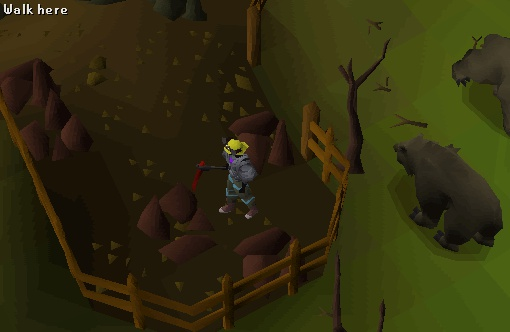iron: (116, 169, 226, 273), (205, 82, 315, 186), (1, 76, 110, 180)
